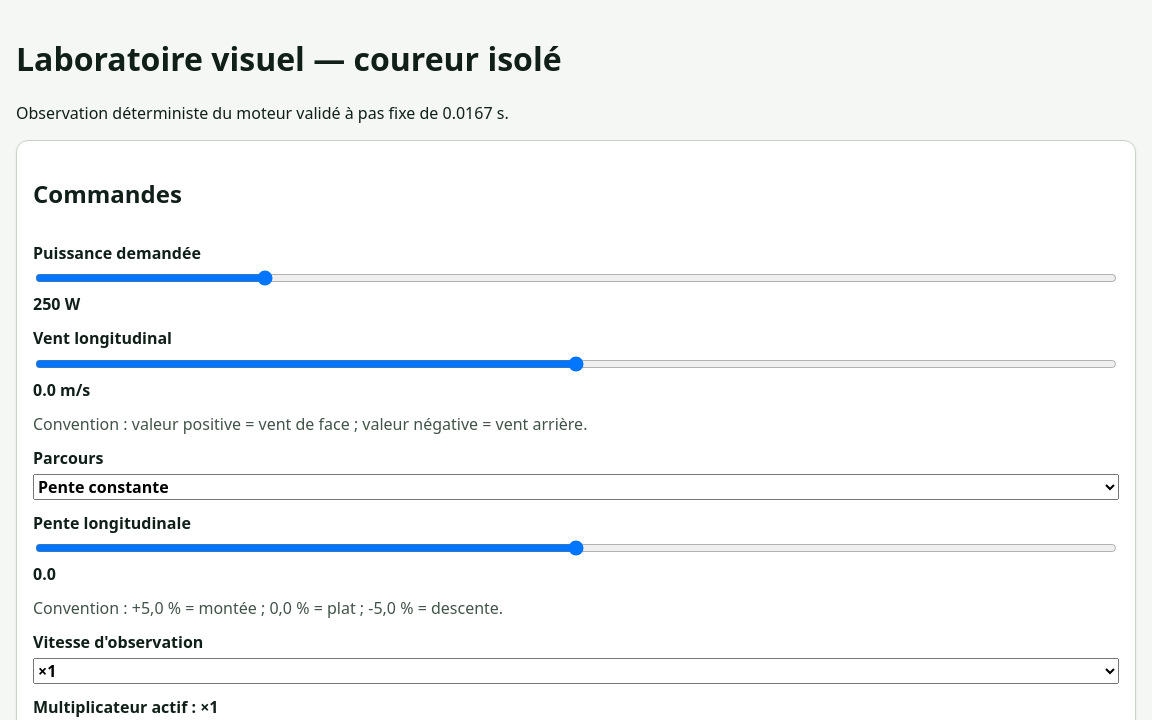
Scenario: App › changes requested power
Set the slider labelled "Puissance demandée 250 W" to "350". click: [354, 278]
box: x1=35 y1=270 x2=1117 y2=286
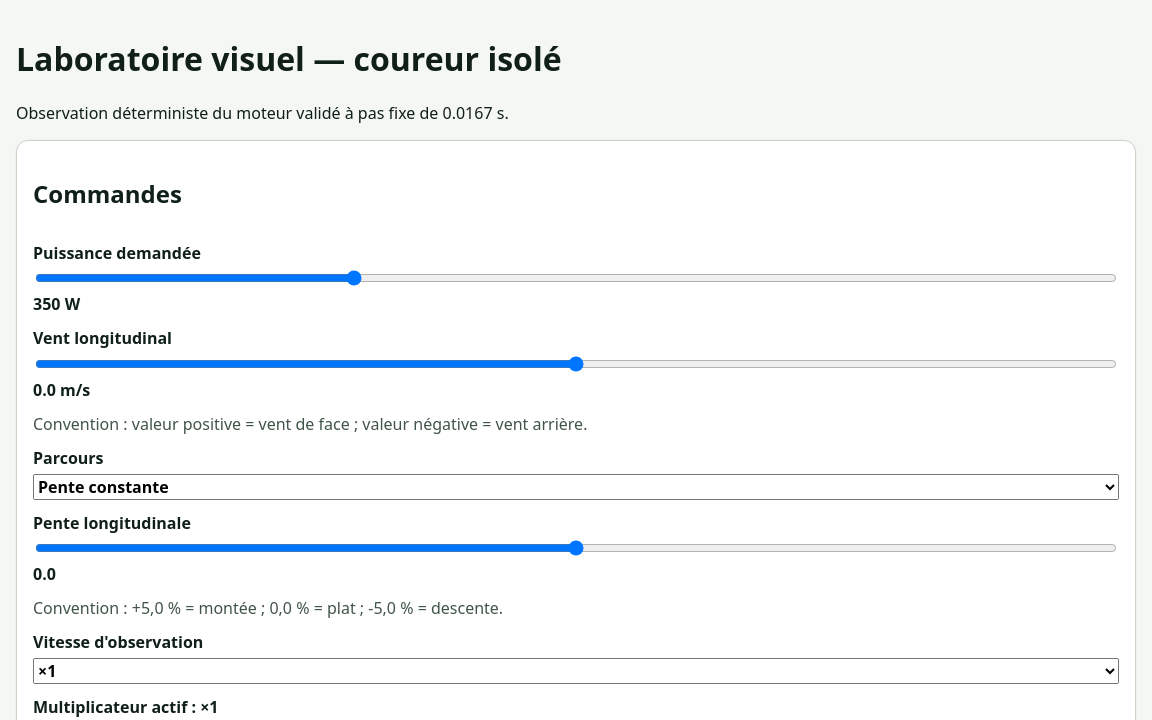
Expected: the text "350 W" is shown, x1=33 y1=293 x2=80 y2=315
